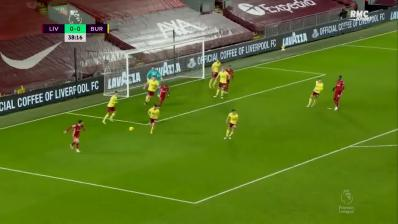football: (127, 125, 136, 134)
player: (63, 118, 88, 154), (101, 91, 120, 126), (331, 73, 347, 112), (223, 108, 241, 142), (306, 77, 324, 109), (213, 67, 230, 100), (207, 58, 222, 90), (143, 76, 158, 106), (148, 105, 162, 136), (156, 83, 171, 109)
